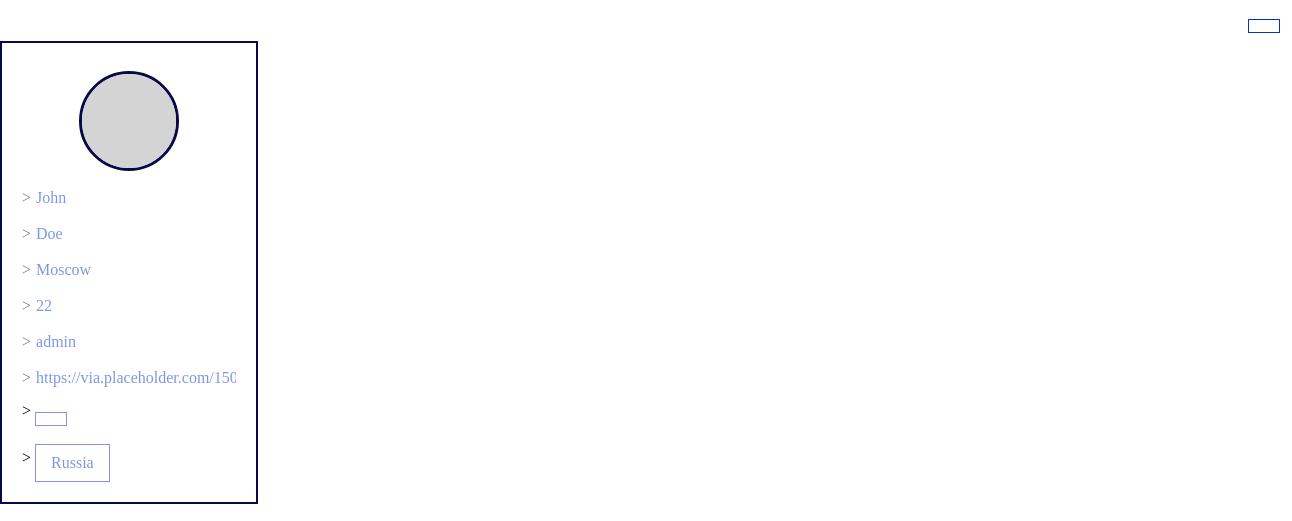
Scenario: EditableProfileCard › test toggle readonly
Click the button with test id "EditableProfileCard.EditButton" at [1264, 26], box [1248,19,1280,33]
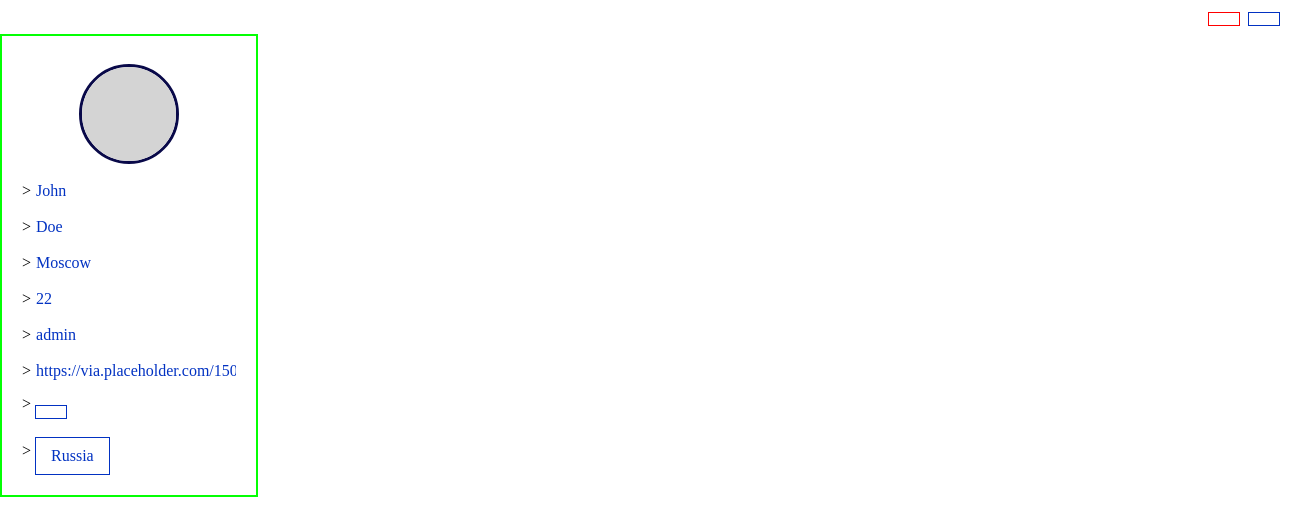
Check: the button with test id "EditableProfileCard.CancelButton" is shown, box [1208,12,1240,26]
